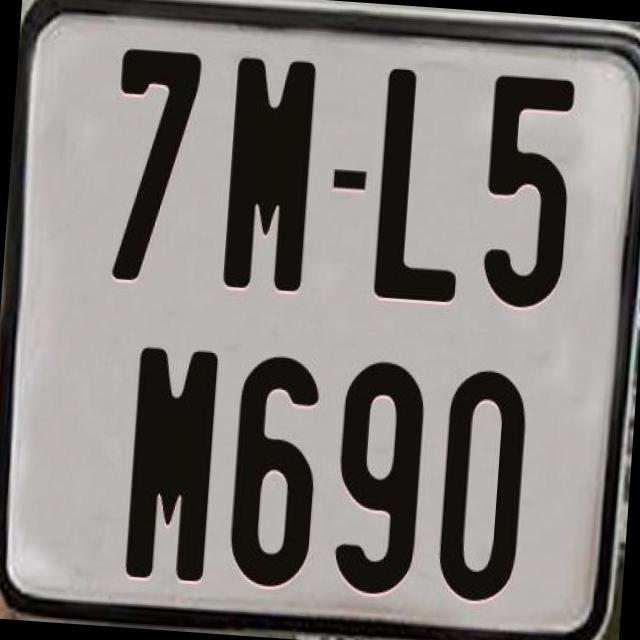0: (433, 364, 532, 602)
5: (476, 69, 578, 311)
6: (222, 351, 326, 593)
7: (104, 45, 205, 282)
9: (327, 358, 428, 598)
L: (371, 63, 469, 300)
M: (218, 54, 318, 290), (122, 343, 220, 583)
